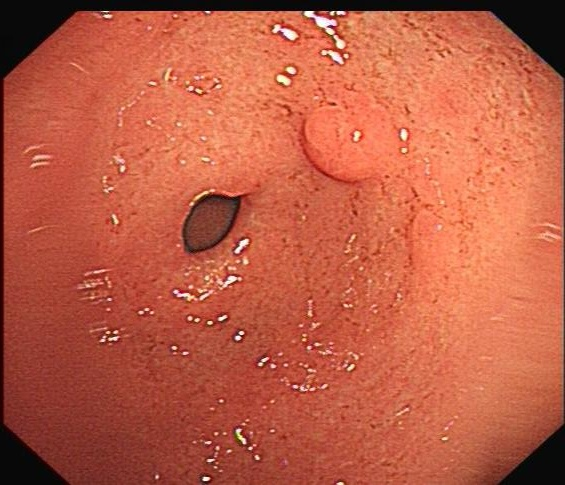Polyp: (296, 92, 406, 188)
